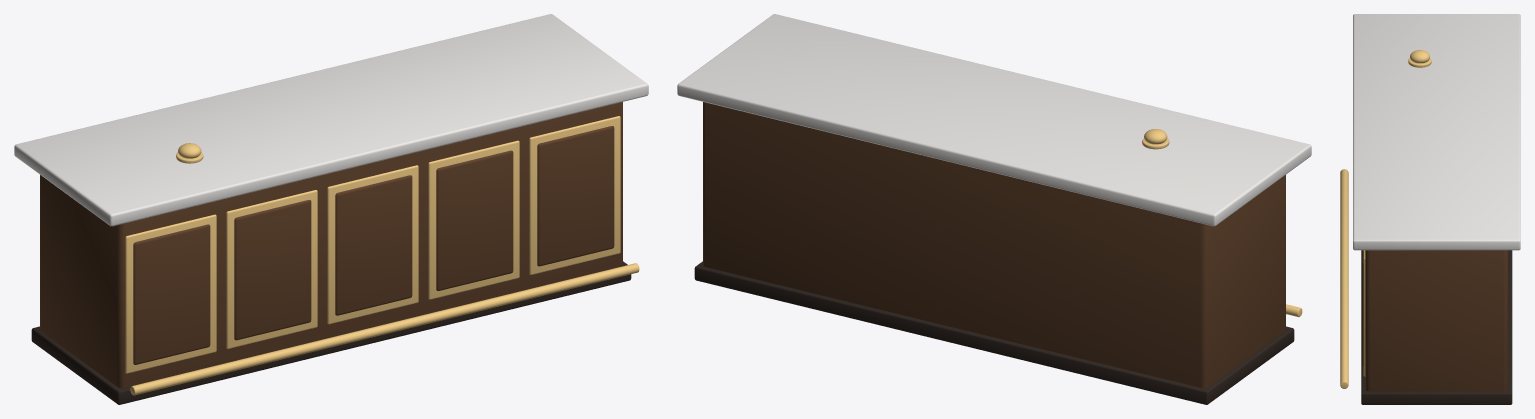
File: desk.fbx
The picture shows the model from 3 angles, left to right: view 1: azimuth 30°, elevation 25°; view 2: azimuth 150°, elevation 25°; view 3: azimuth 270°, elevation 25°; orthographic projection. The views are drawn at different scales.
Parts seen in each view (by area): view 1: top, body, panel, panel.002, panel.003, panel.001, panel.004, rail, plinth, frame.002, frame.003, frame (+2 smaller); view 2: body, top, plinth; view 3: top, body, plinth, rail, frame.004, bell, panel.004.
Part boxes in pixels (x1,y1,x2,y2): top: (14, 14, 648, 226); body: (40, 102, 622, 388); panel: (133, 224, 210, 364); panel.002: (335, 175, 412, 315); panel.003: (436, 150, 513, 290); panel.001: (234, 200, 311, 340); panel.004: (537, 126, 614, 266); rail: (130, 263, 639, 395); plinth: (31, 261, 631, 404); frame.002: (327, 165, 418, 324); frame.003: (428, 140, 519, 299); frame: (125, 214, 216, 373); body: (703, 102, 1285, 388); top: (677, 14, 1311, 226); plinth: (694, 261, 1294, 404); top: (1353, 14, 1520, 250); body: (1365, 250, 1507, 391); plinth: (1361, 250, 1512, 404); rail: (1340, 169, 1348, 388); frame.004: (1363, 250, 1365, 376); bell: (1410, 50, 1429, 63); panel.004: (1362, 250, 1363, 366).
Size of what is drawn, in the model's own units: 320 by 120 by 108.
